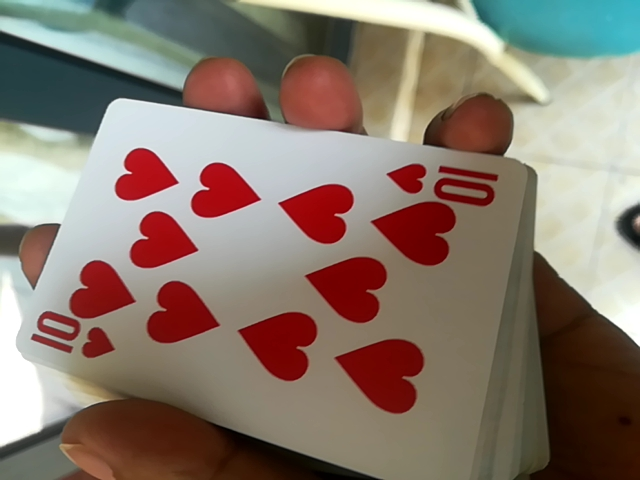hx 10: (10, 90, 532, 477)
